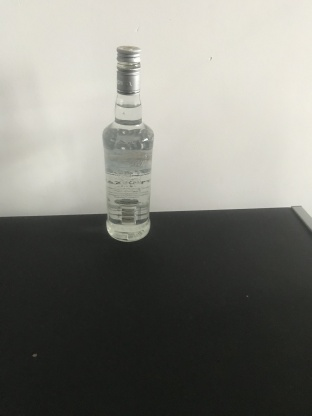nakretka: (115, 43, 142, 96)
